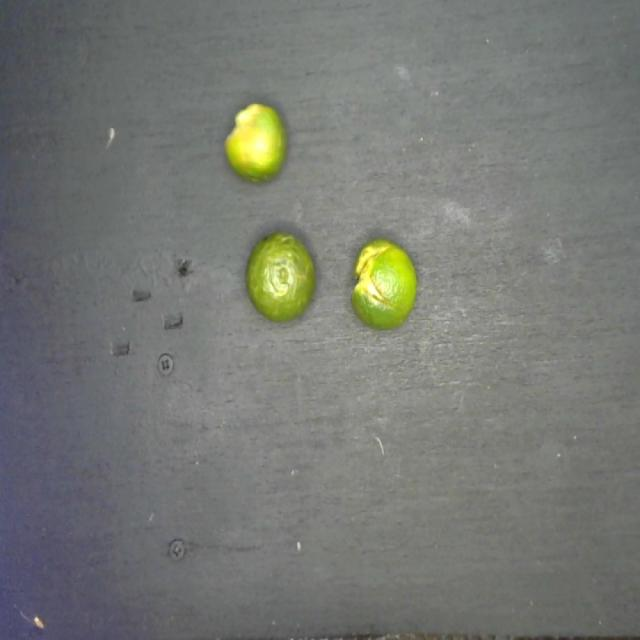biodegradable: (209, 90, 427, 341)
